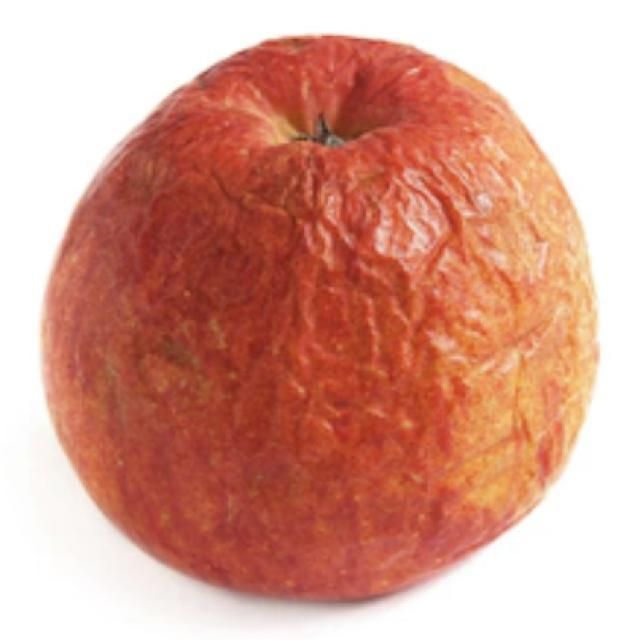Rotten: (36, 31, 602, 606)
